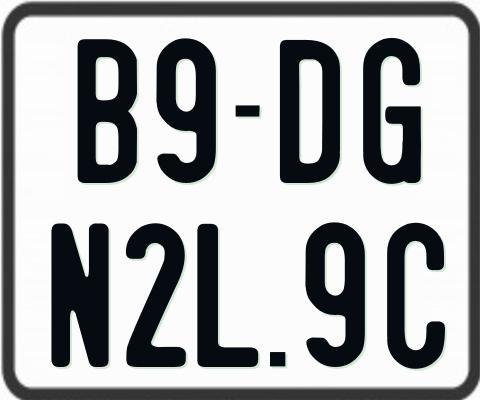2: (126, 220, 186, 364)
9: (302, 222, 368, 368), (156, 37, 221, 182)
B: (78, 38, 140, 185)
C: (387, 222, 448, 373)
D: (278, 38, 343, 181)
G: (361, 36, 419, 183)
L: (197, 224, 261, 370)
N: (49, 223, 113, 368)
